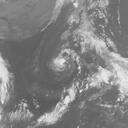cyclone: (49, 46, 80, 77)
